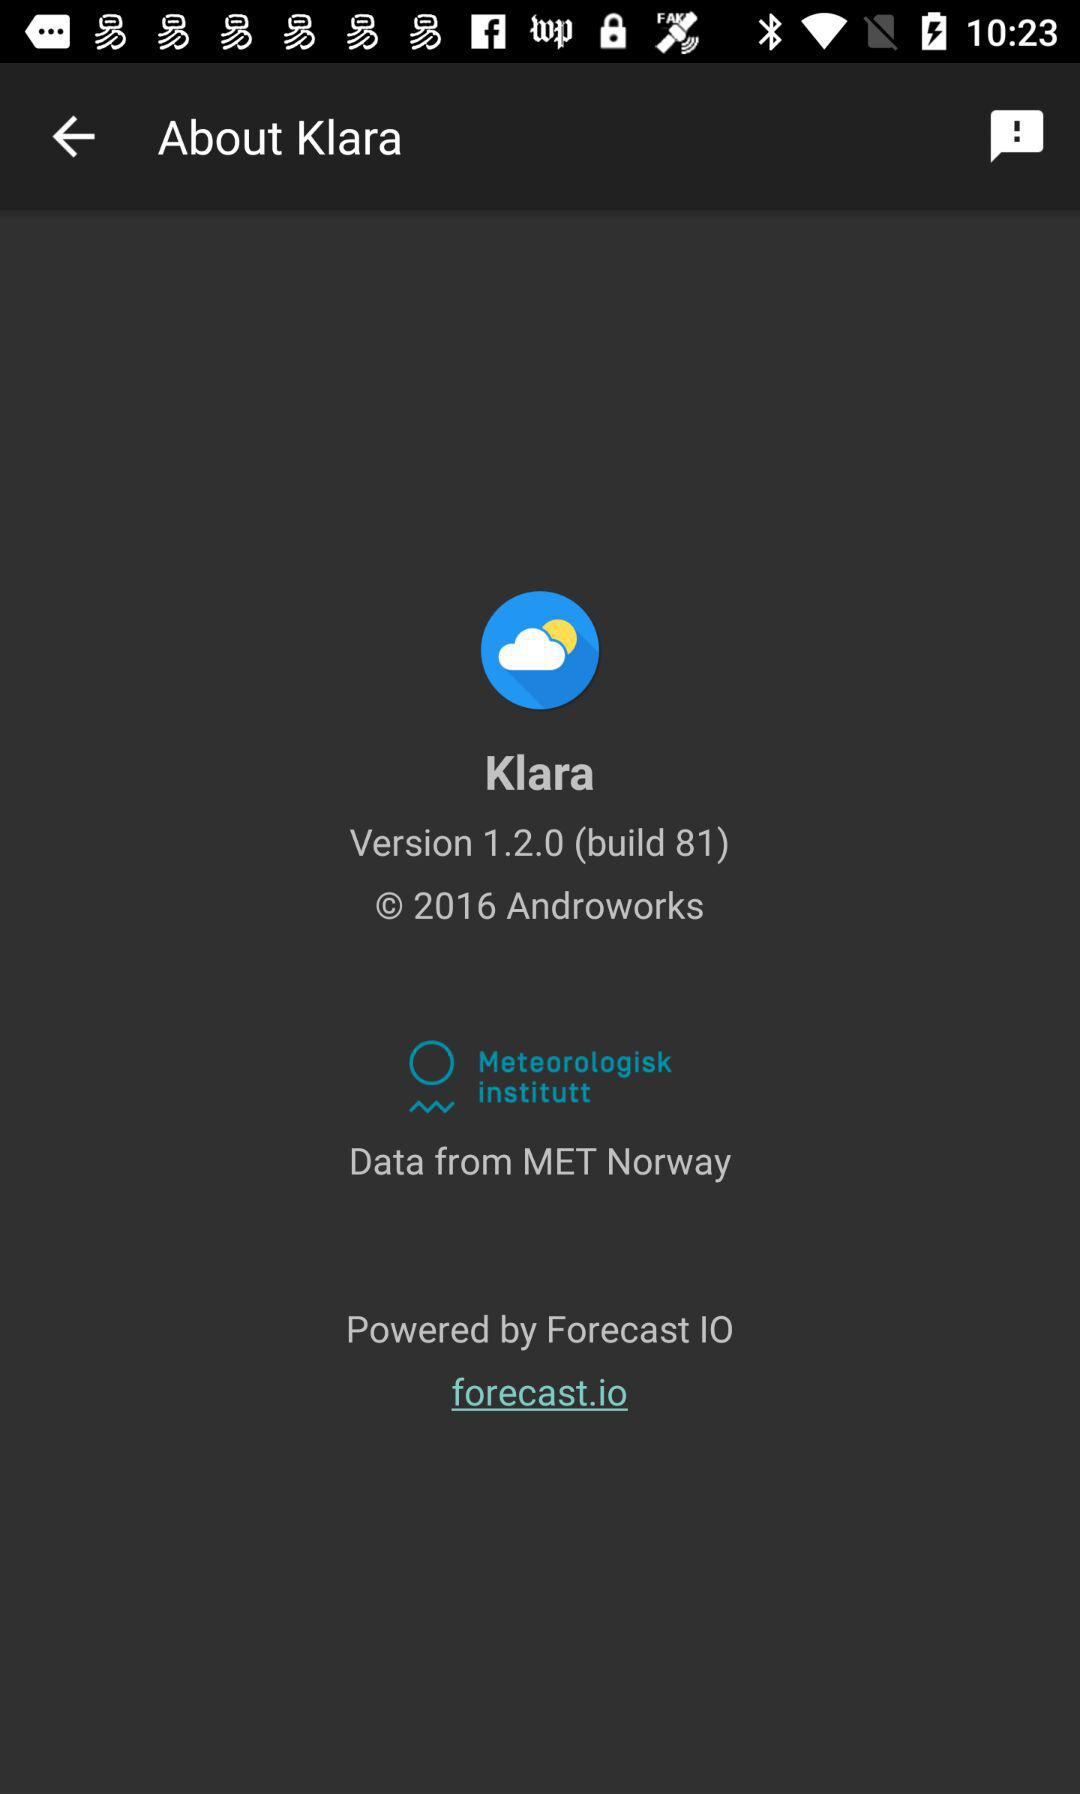Icon: (989, 109, 1045, 163), (53, 115, 97, 160)
Image: (480, 589, 601, 712)
Text: (347, 1313, 734, 1353), (350, 1144, 732, 1184), (348, 827, 730, 866), (374, 888, 705, 923), (158, 118, 402, 158), (450, 1376, 630, 1413), (486, 753, 594, 793)
Toolbar: (1, 64, 1080, 211)
UpperTaskBar: (1, 1, 1080, 64)
